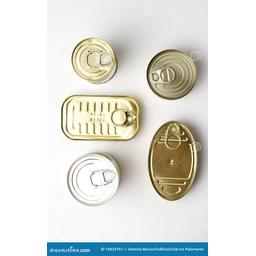metal: (138, 109, 207, 216), (52, 90, 146, 147), (61, 147, 126, 212), (141, 43, 197, 104), (63, 31, 121, 88)
